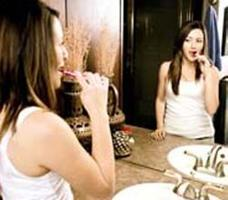person: (1, 1, 116, 200)
